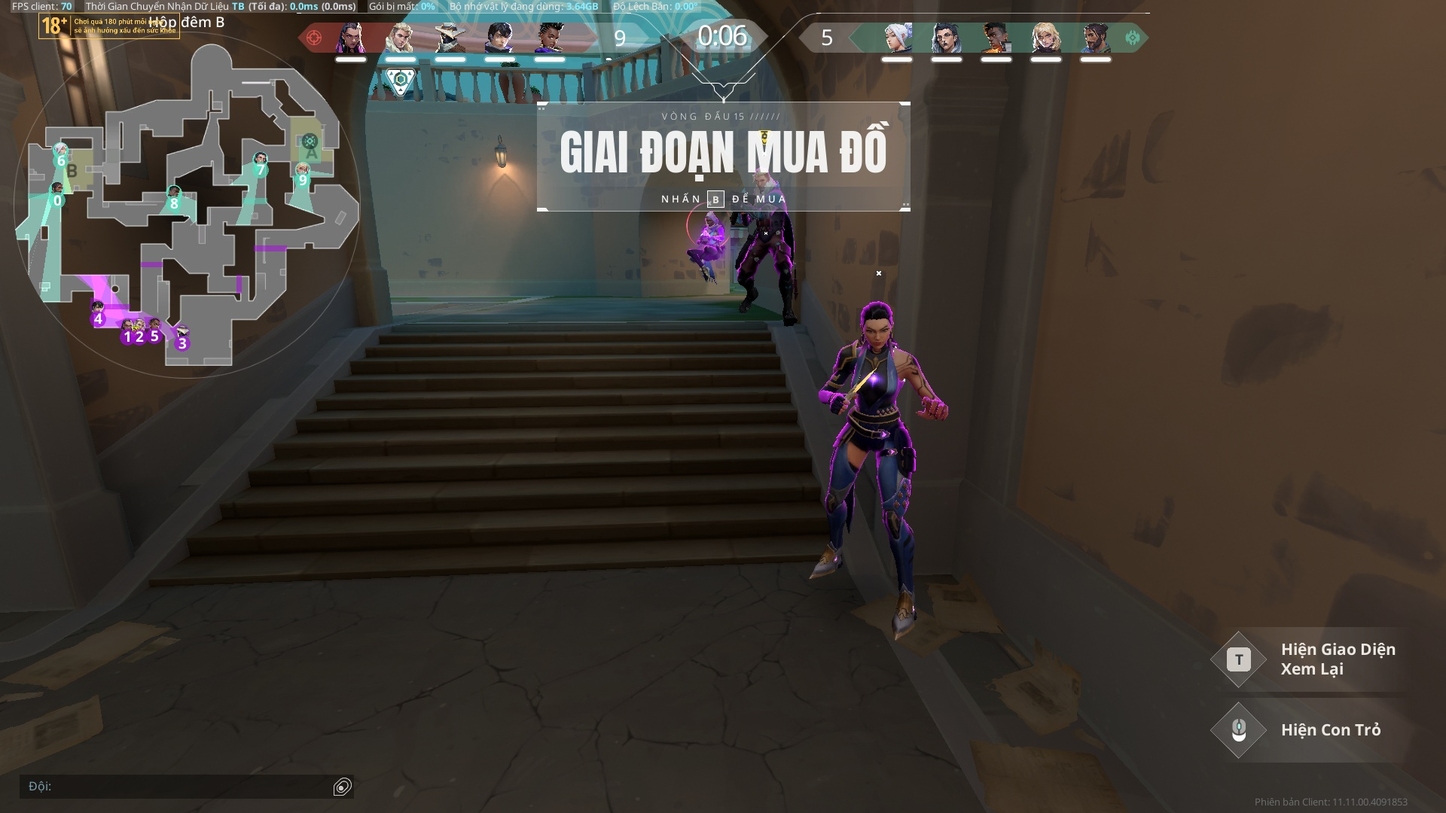body: (837, 336, 916, 424), (754, 183, 791, 230), (700, 222, 725, 246)
head: (857, 300, 902, 347), (751, 169, 774, 193), (702, 212, 717, 225)
